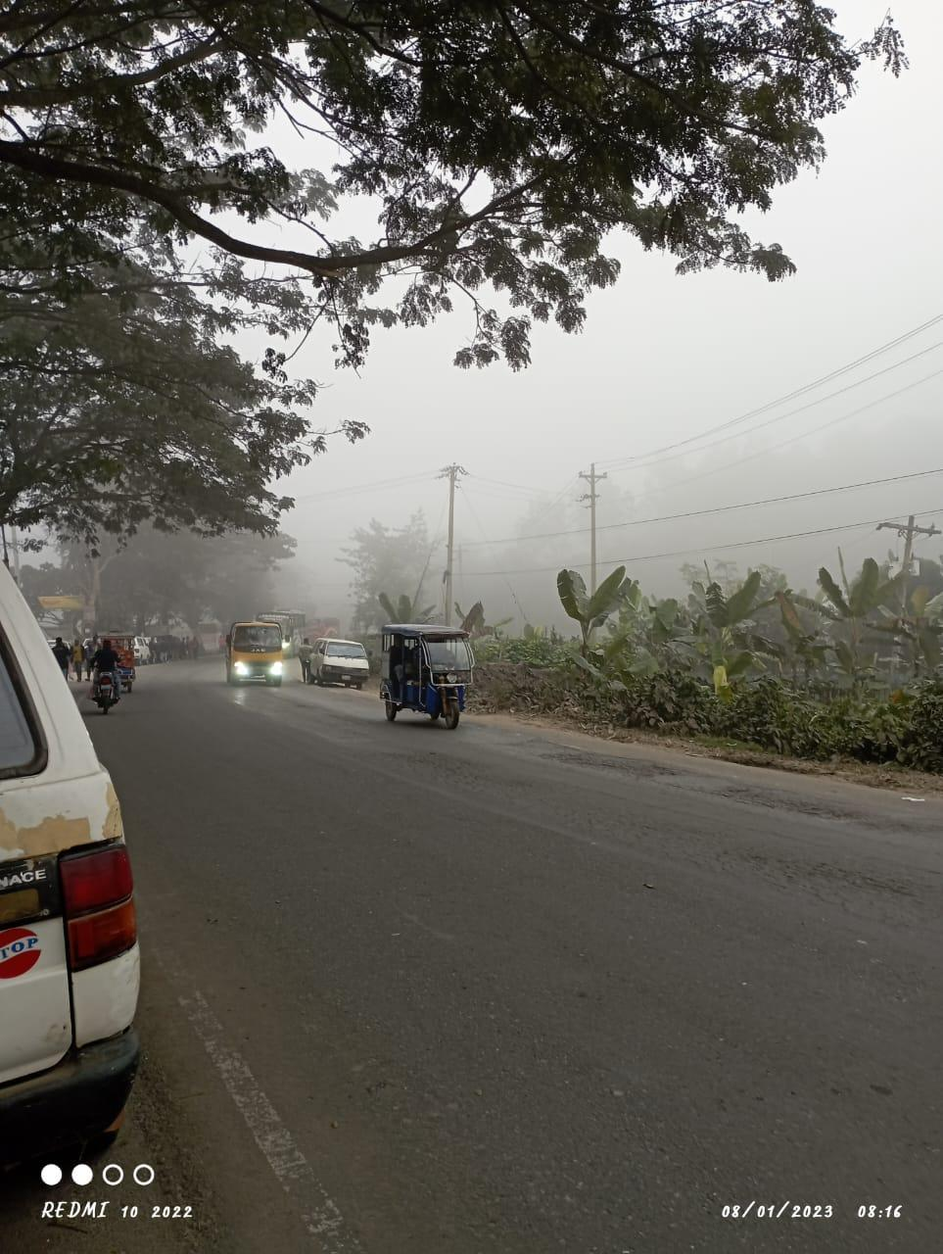Bike: (90, 632, 122, 718)
Car: (1, 567, 142, 1167), (377, 615, 482, 730), (303, 628, 381, 702)
Truck: (219, 614, 296, 690)
